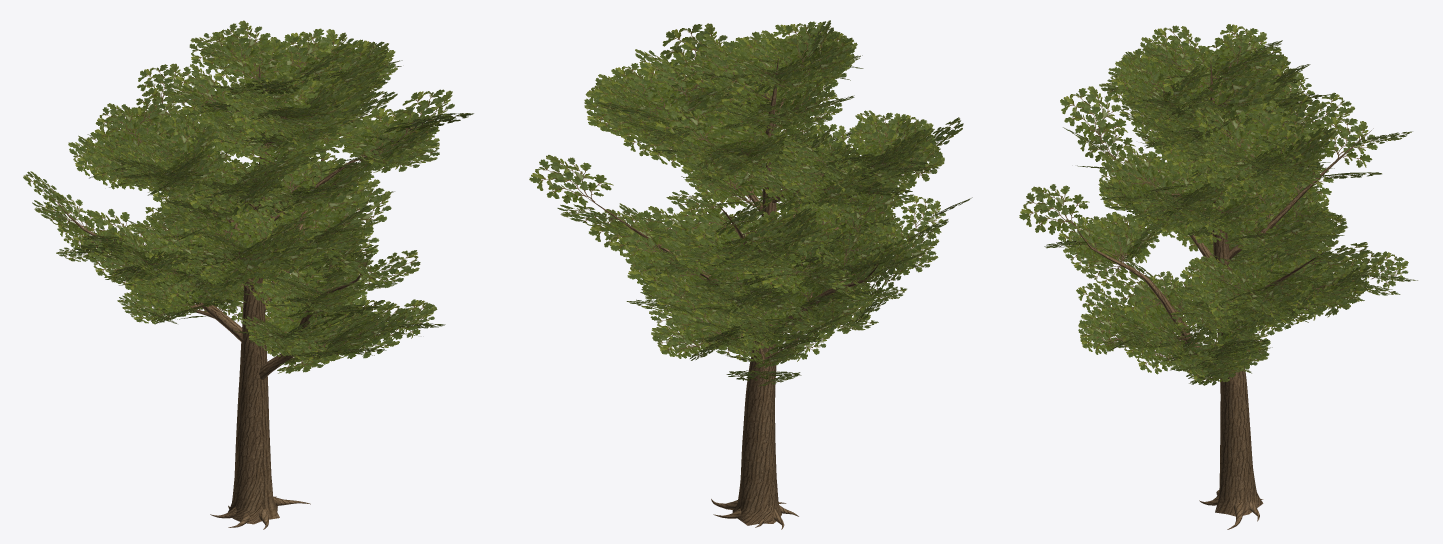
The model's file is corealm_oak_3.glb.
3 renders of one model, left to right at view 1: azimuth 30°, elevation 25°; view 2: azimuth 150°, elevation 25°; view 3: azimuth 270°, elevation 25°, orthographic. The views are drawn at different scales.
Visible parts, largest first — view 1: corealm_oak_3; view 2: corealm_oak_3; view 3: corealm_oak_3.
Boxes of the visible parts, x1,y1,x2,y2 form: corealm_oak_3: [23, 20, 473, 529]; corealm_oak_3: [529, 20, 972, 529]; corealm_oak_3: [1019, 24, 1417, 529].
Size of the model in its own units: 10.86 by 12.79 by 10.57.
Materials: 2 (2 with a texture image).
